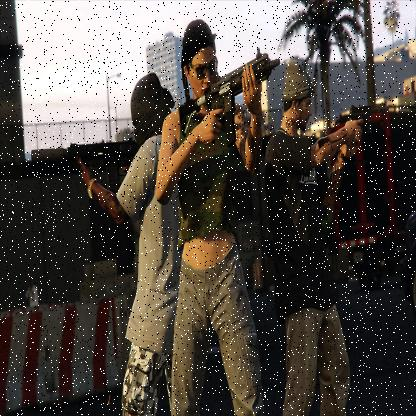rifle: (176, 44, 280, 146), (27, 138, 137, 192)
